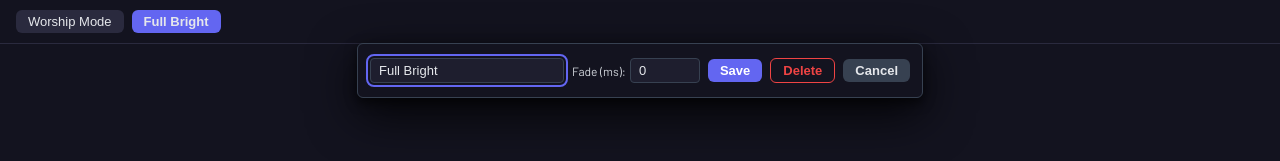
Test case: ScenesStrip › flags a name as taken when it collides on slug with another scene
Replace the text in the field showing "Full Bright" with "Worship Mode": (467, 70) [370,58,564,83]
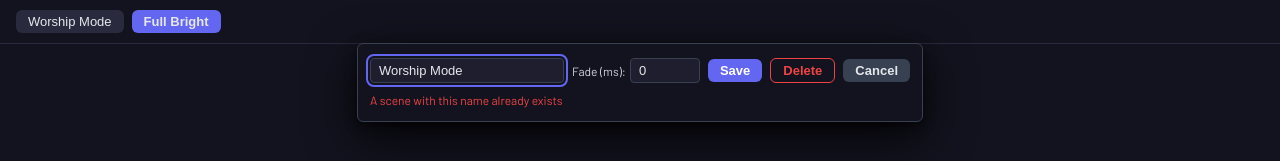
Expected: the button "Save" is disabled, [708,59,762,82]
Expected: the text "A scene with this name already exists" is shown, [370,93,563,107]
